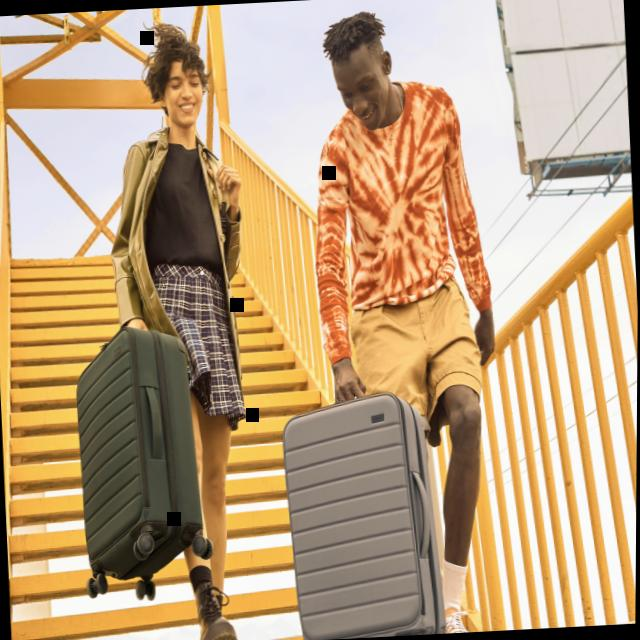luggage: (275, 384, 452, 640), (66, 316, 211, 588)
